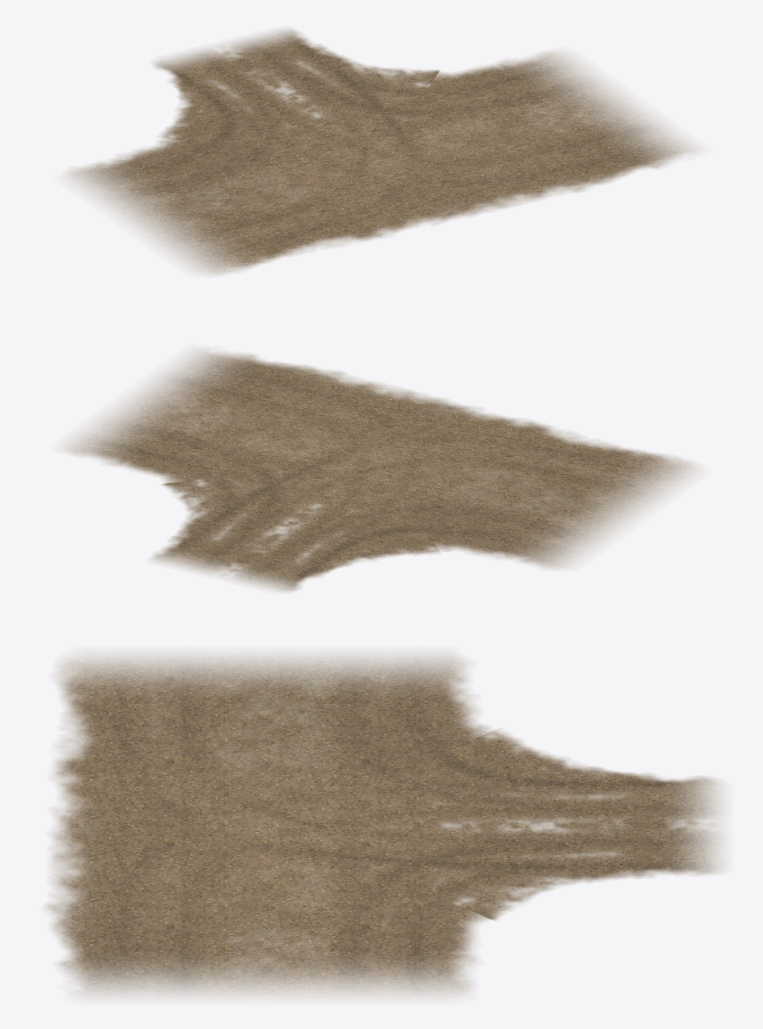
The model's file is road_tee_main_street.glb.
3 renders of one model, top to bottom at view 1: azimuth 30°, elevation 25°; view 2: azimuth 150°, elevation 25°; view 3: azimuth 270°, elevation 25°, orthographic. The views are drawn at different scales.
Parts seen in each view (by area): view 1: road_tee_main_street; view 2: road_tee_main_street; view 3: road_tee_main_street.
Boxes of the visible parts, box(x1,y1,x2,y2) form: road_tee_main_street: box(67, 28, 695, 274); road_tee_main_street: box(65, 350, 696, 591); road_tee_main_street: box(46, 654, 721, 996).
Bounding box in the file's own units: 22.92 × 0 × 18.79.
1 material, 1 textured.
